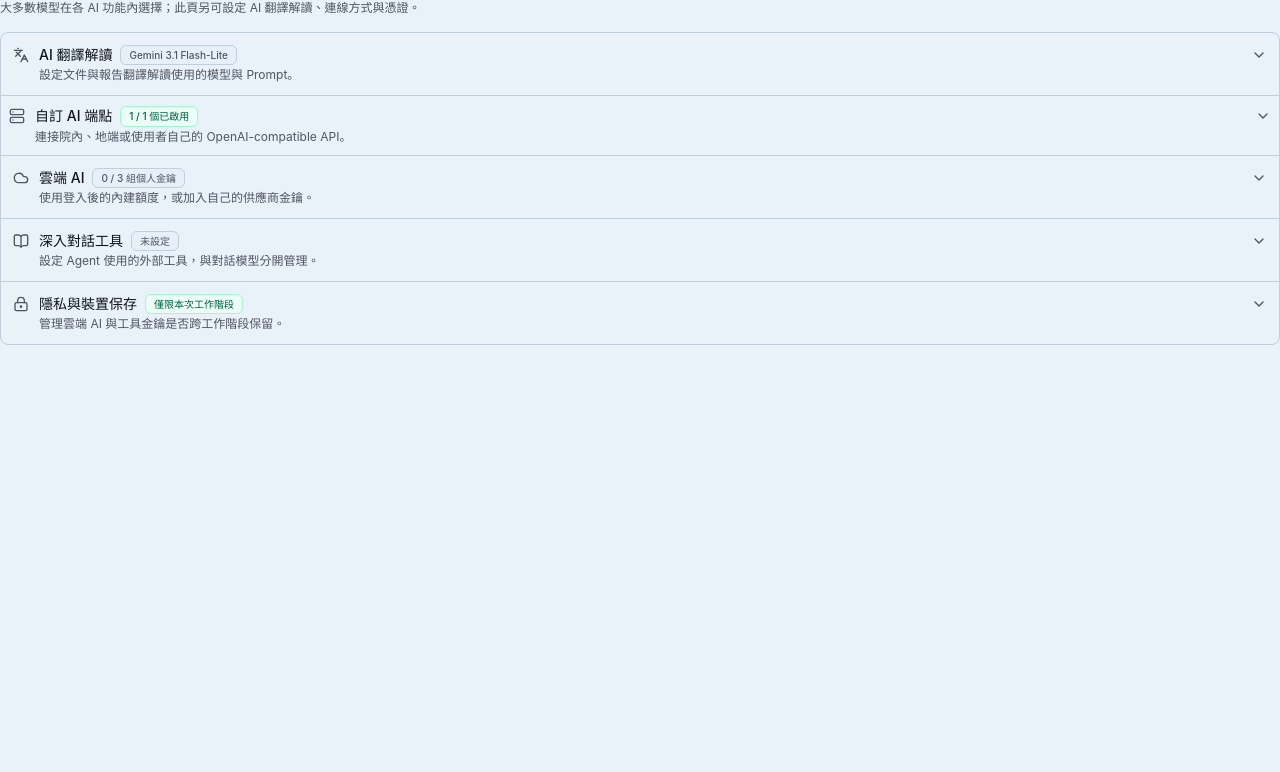
Test: ModelAndKeySettings progressive disclosure › shows all custom endpoint settings without a nested Advanced toggle
Expected: the field labelled "Chat Completions 網址" is not shown
Click the button "自訂 AI 端點 1 / 1 個已啟用 連接院內、地端或使用者自己的 OpenAI-compatible API。": (74, 116) [9,96,1271,155]
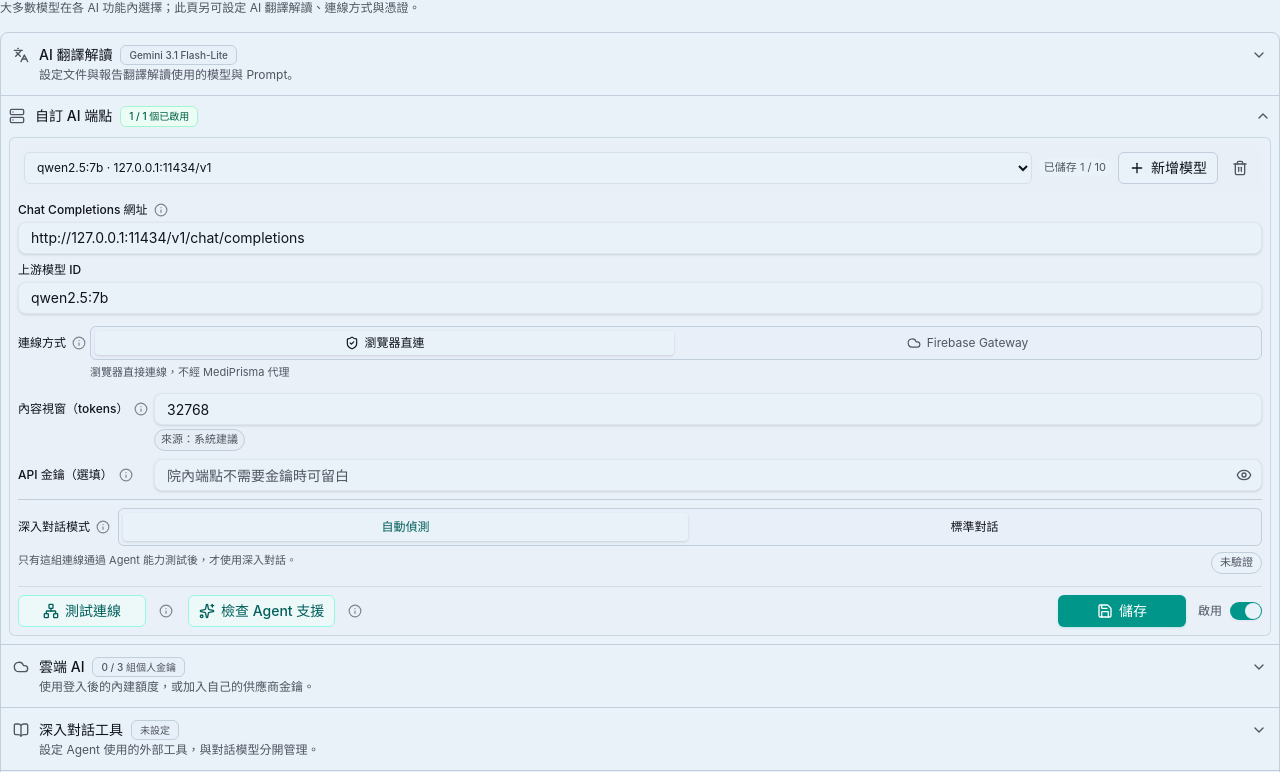
Expected: the field labelled "Chat Completions 網址" holds "http://127.0.0.1:11434/v1/chat/completions", [18,222,1262,254]
Expected: the field labelled "上游模型 ID" holds "qwen2.5:7b", [18,282,1262,314]
Expected: the number field labelled "內容視窗（tokens）" holds "32768", [154,393,1262,425]
